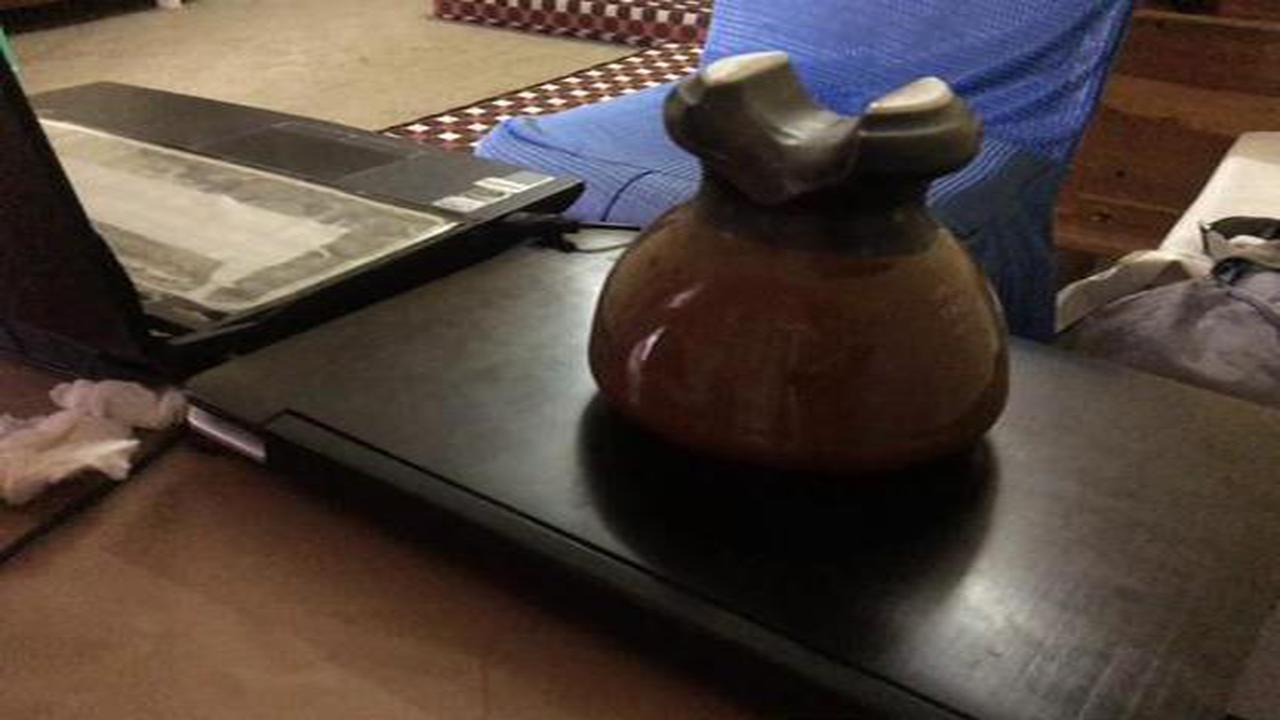insulator_pin: (570, 44, 1053, 492)
